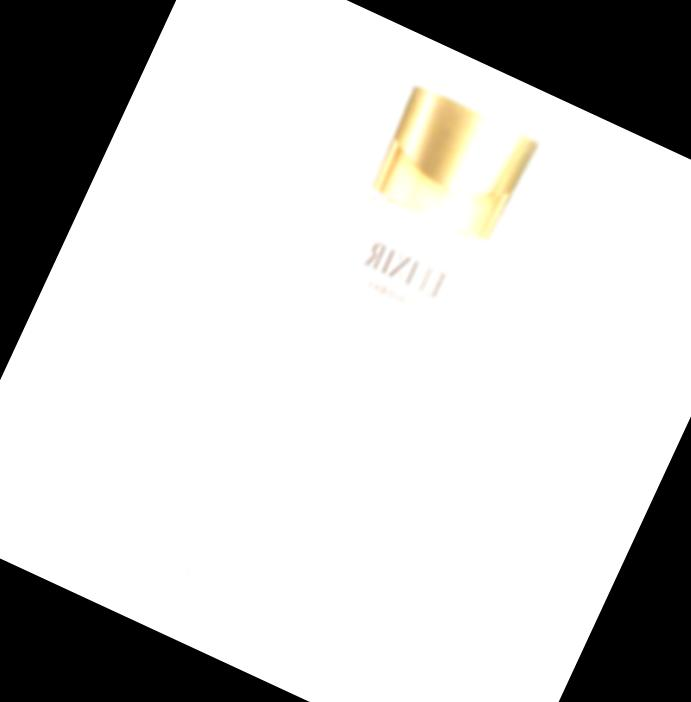cosmetic: (177, 79, 539, 644)
